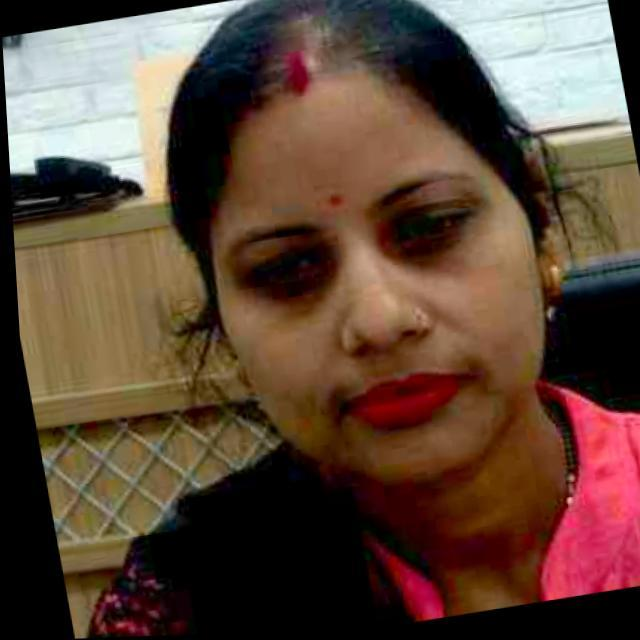Puffy Eyes - v3 Dark Circle: (238, 245, 337, 300), (377, 231, 466, 273)
